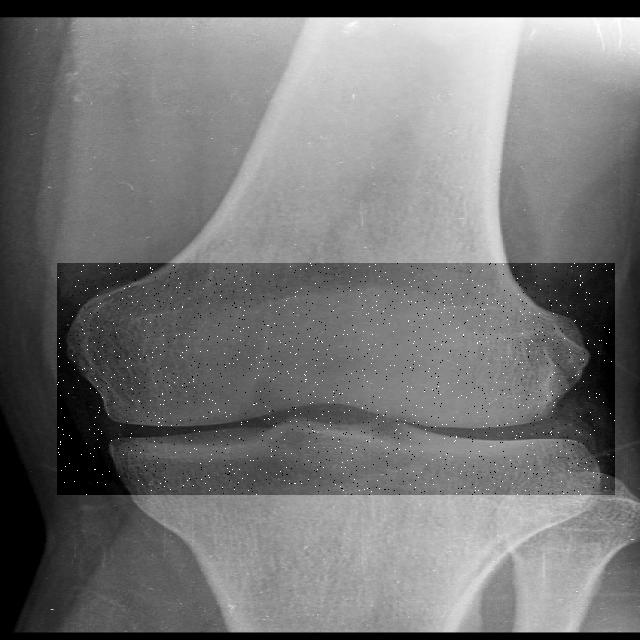normal: (57, 263, 615, 495)
